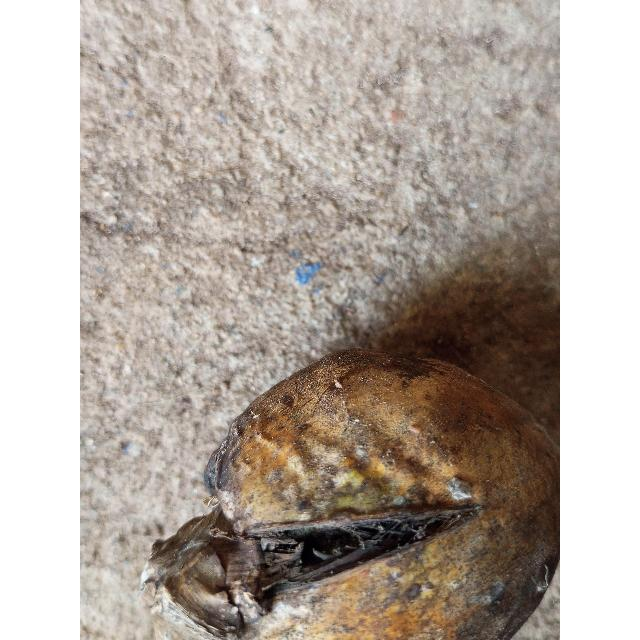damaged: (140, 348, 560, 640)
